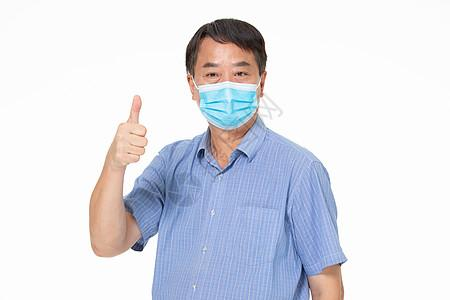mask: (193, 39, 262, 134)
